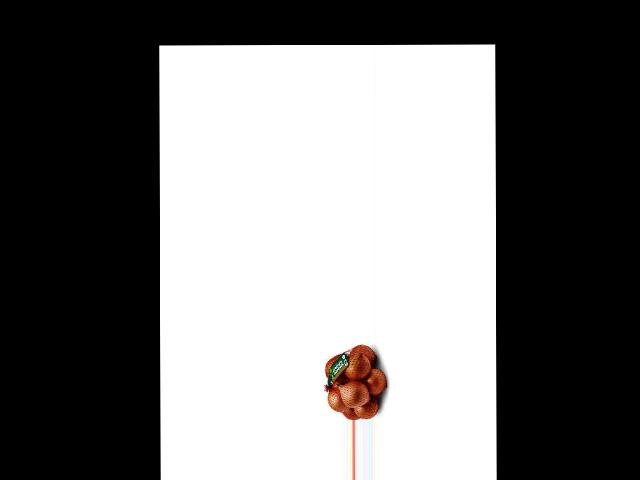onion: (352, 342, 377, 368)
